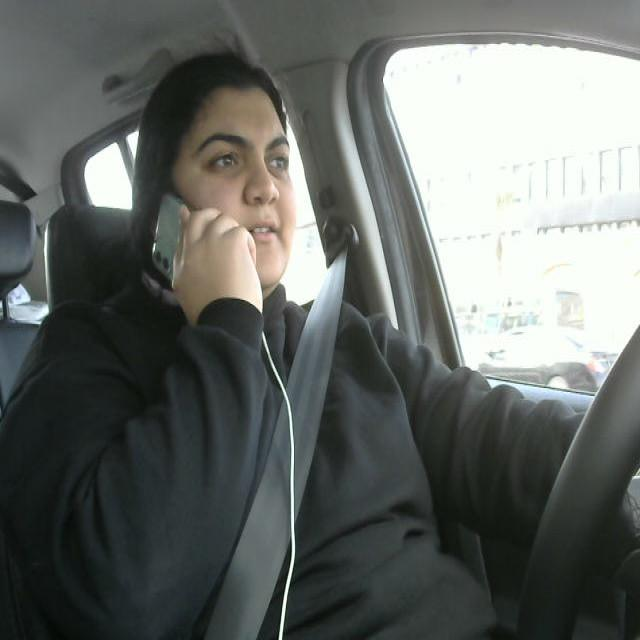mobile use: (143, 189, 239, 316)
